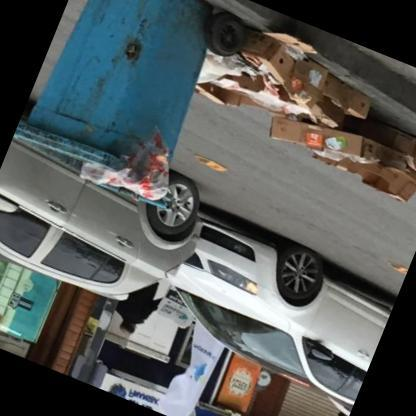Garbage: (206, 36, 415, 210), (205, 11, 346, 147)
